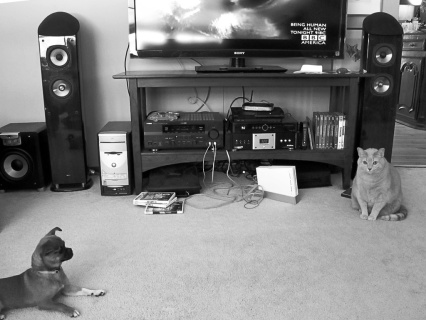Cat: (350, 145, 408, 222)
